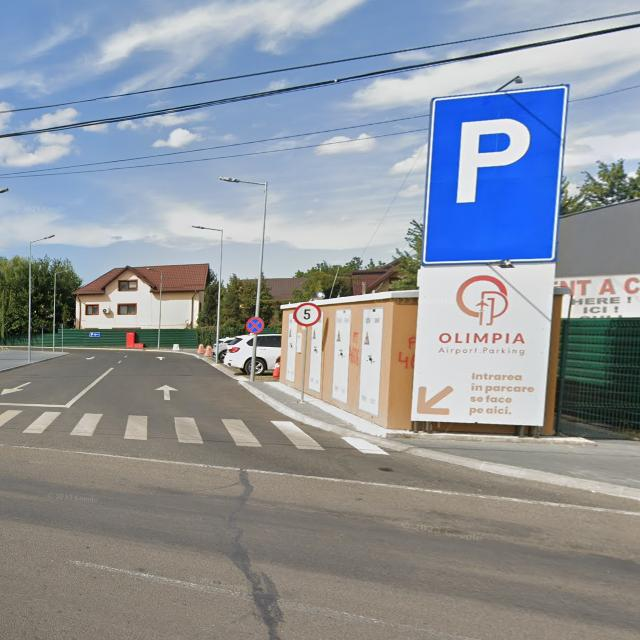forb_speed_over_5: (294, 301, 322, 326)
forb_stopping: (246, 316, 264, 334)
info_parking: (422, 88, 568, 265)
